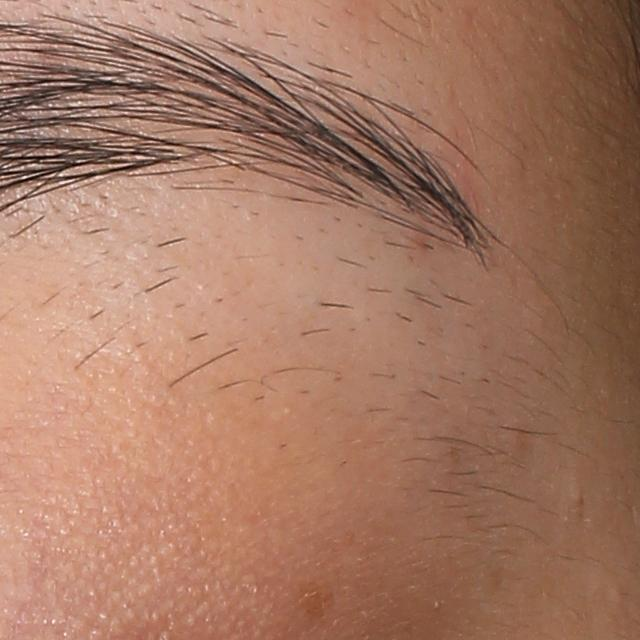melasma: (296, 569, 336, 616)
